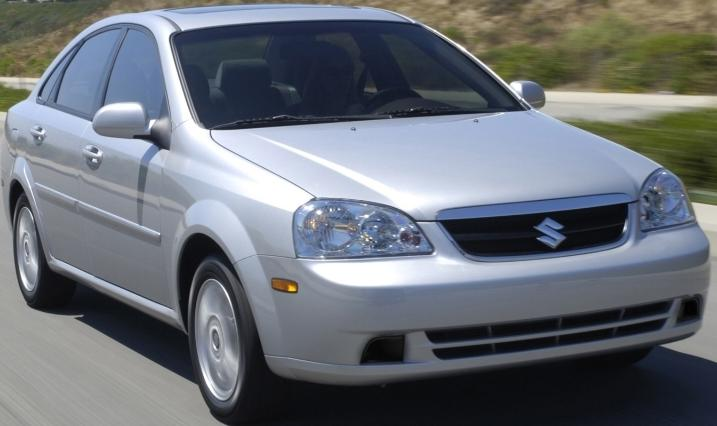front_view: (259, 154, 711, 386)
headlight: (285, 185, 454, 265)
side_glass: (34, 24, 195, 131)
